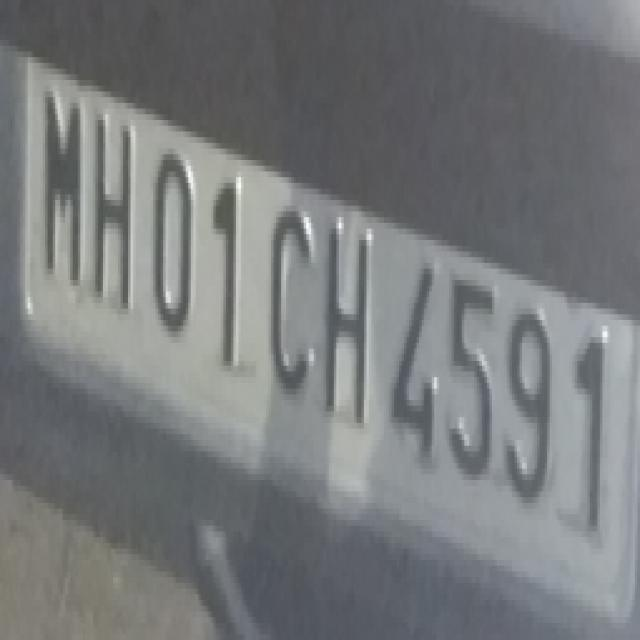0: (150, 138, 202, 349)
1: (566, 305, 621, 568), (205, 148, 248, 378)
4: (388, 240, 442, 468)
5: (447, 261, 502, 482)
9: (505, 293, 557, 516)
C: (264, 168, 322, 414)
H: (320, 208, 380, 438), (92, 79, 143, 326)
M: (32, 66, 88, 294)
